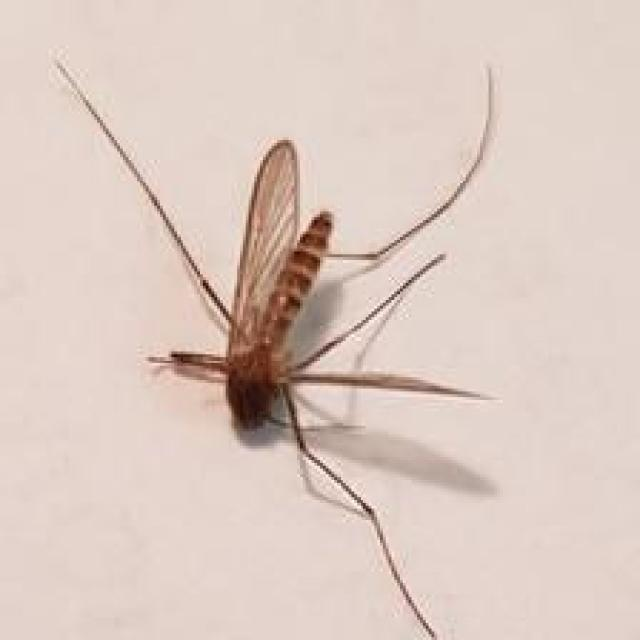Culex: (48, 51, 503, 640)
